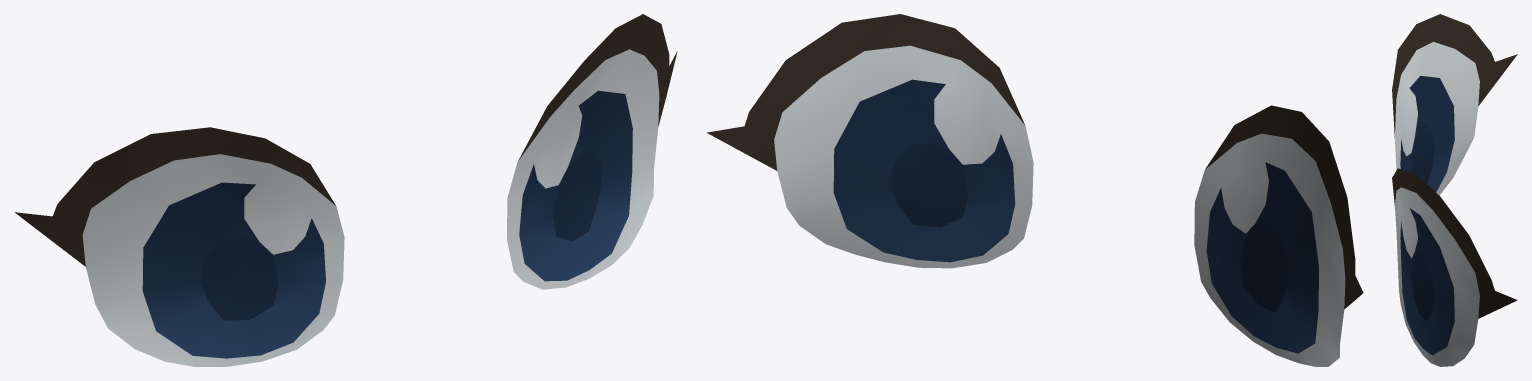
File: Eye_1.fbx
The picture shows the model from 3 angles, left to right: view 1: azimuth 30°, elevation 25°; view 2: azimuth 150°, elevation 25°; view 3: azimuth 270°, elevation 25°; orthographic projection. The views are drawn at different scales.
Parts seen in each view (by area): view 1: Eye_1; view 2: Eye_1; view 3: Eye_1.
Part boxes in pixels (x1,y1,x2,y2): Eye_1: (15,14,677,366); Eye_1: (707,14,1363,366); Eye_1: (1392,14,1517,366).
Bounding box in the file's own units: 41.96 × 14.98 × 9.07.
